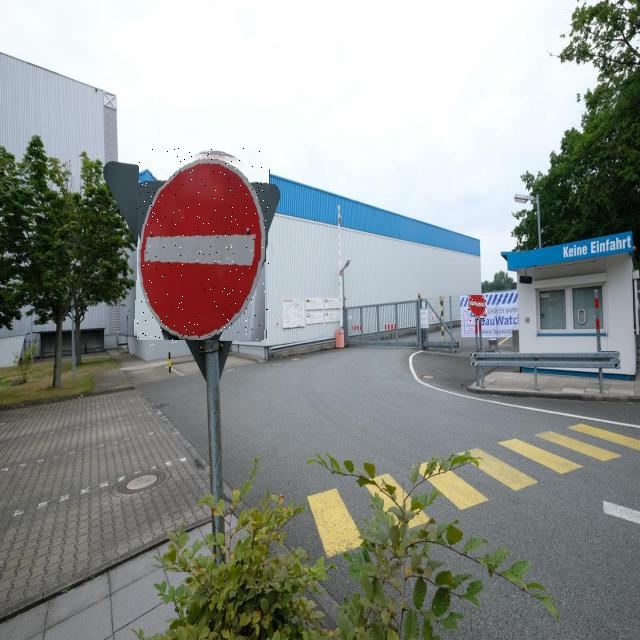no entry: (137, 147, 269, 340), (468, 296, 487, 322)
